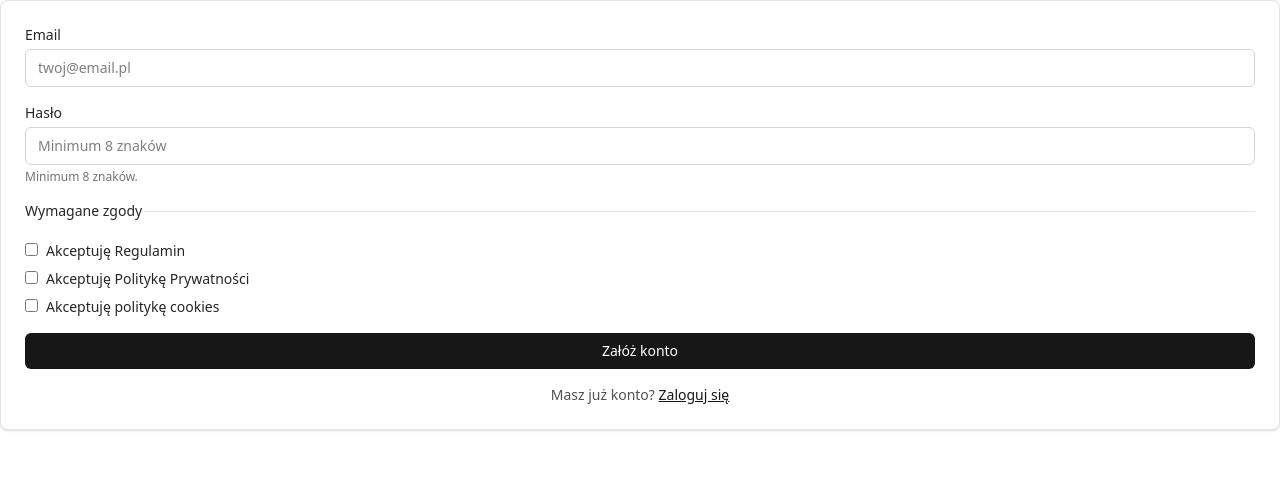
Test: SignUpForm › blokuje submit i pokazuje błąd dla niepoprawnego formatu email
Type "not-an-email" into the field labelled "Email" at (640, 68), box [25,49,1255,87]
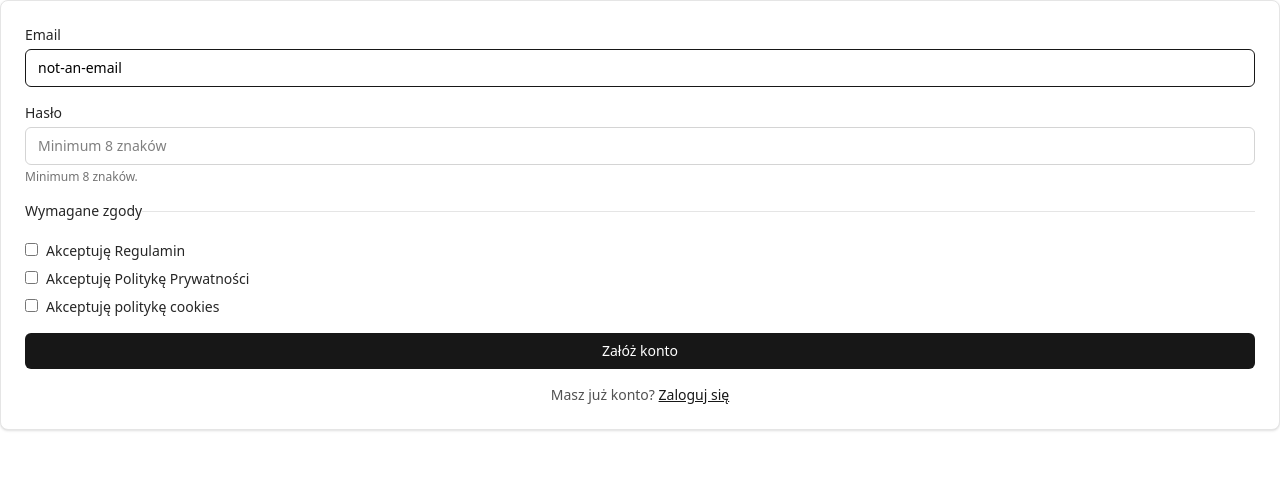
Type "StrongPass123" into the password field labelled "Hasło" at (640, 146), box [25,127,1255,165]
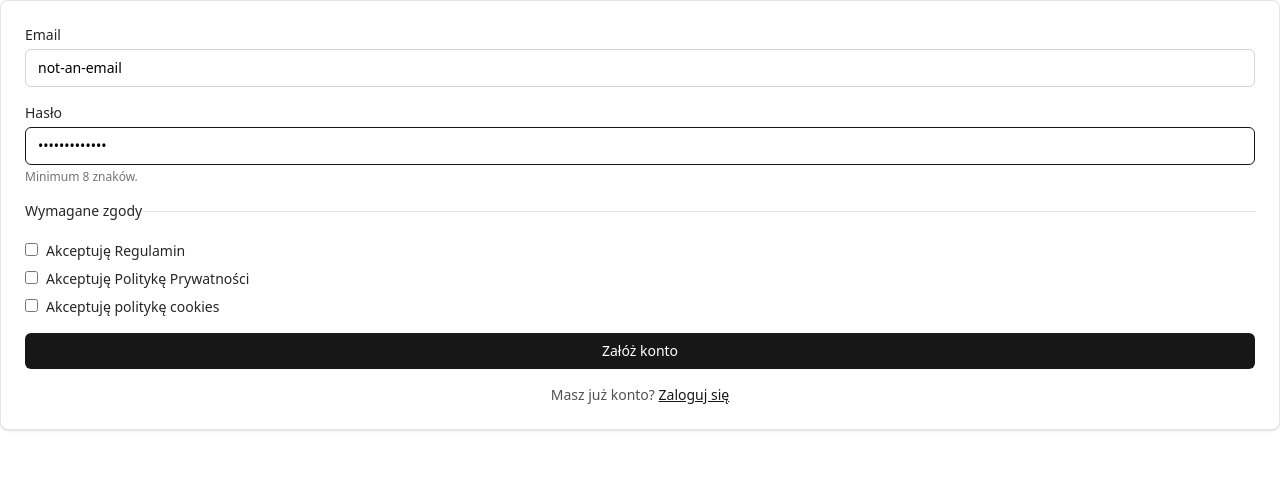
Click the checkbox labelled "Akceptuję Regulamin" at (32, 250), box [25,243,38,256]
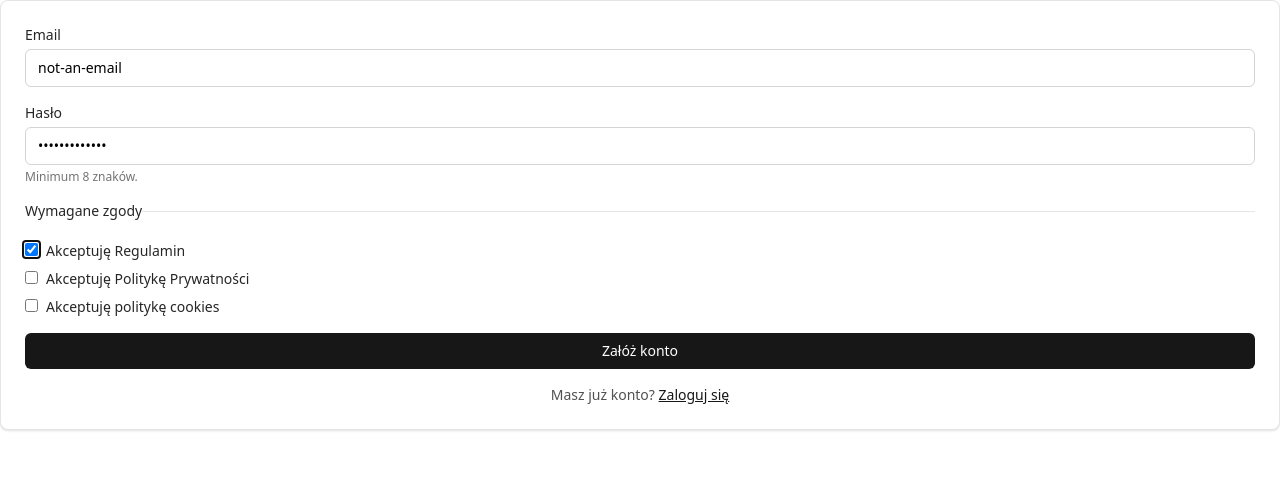
Click the checkbox labelled "Akceptuję Politykę Prywatności" at (32, 278), box [25,271,38,284]
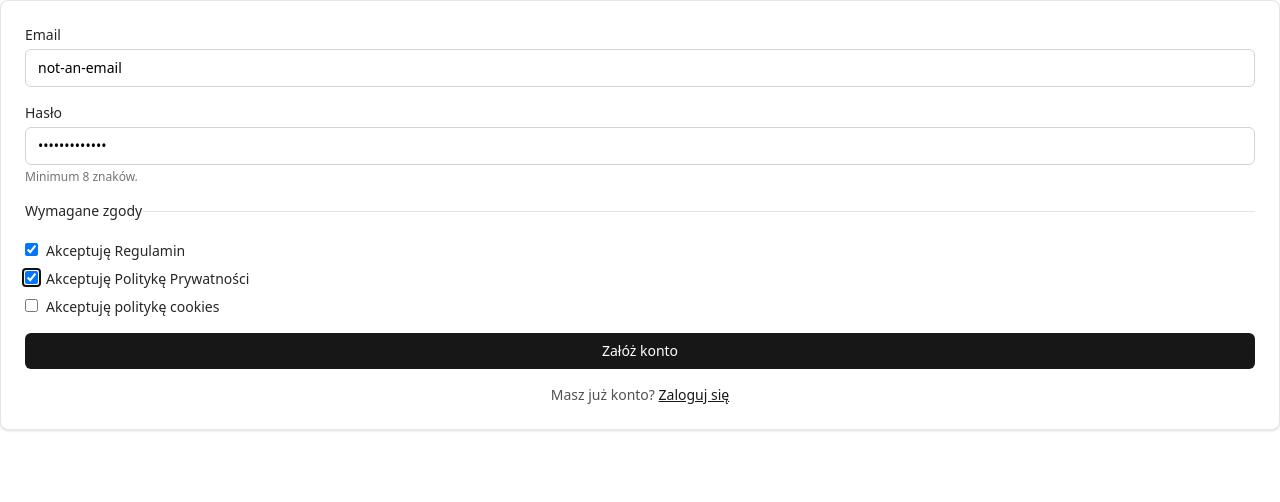
Click the checkbox labelled "Akceptuję politykę cookies" at (32, 306), box [25,299,38,312]
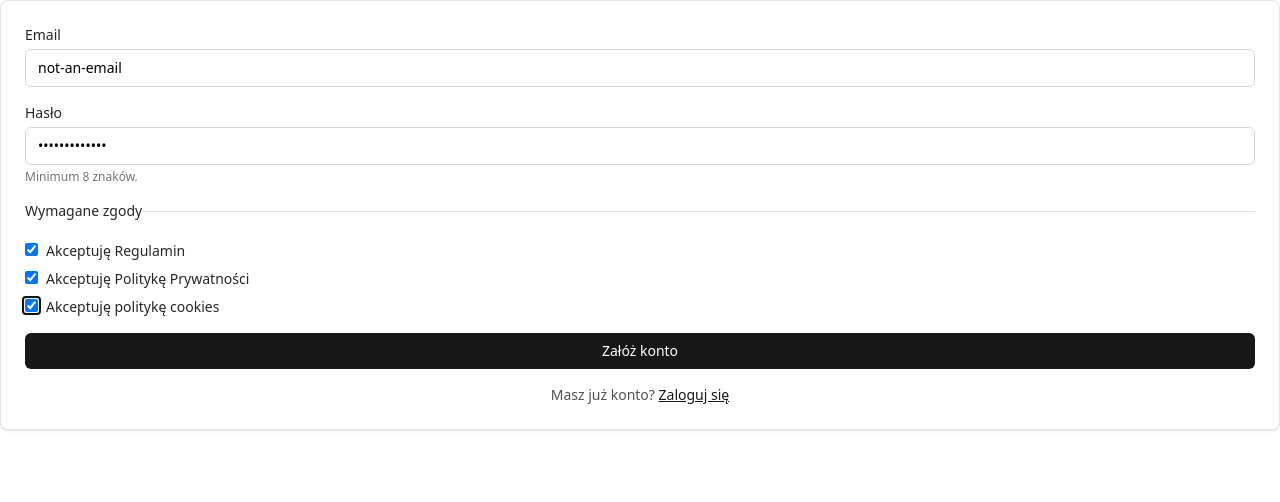
Click the button "Załóż konto" at (640, 351), box [25,333,1255,369]
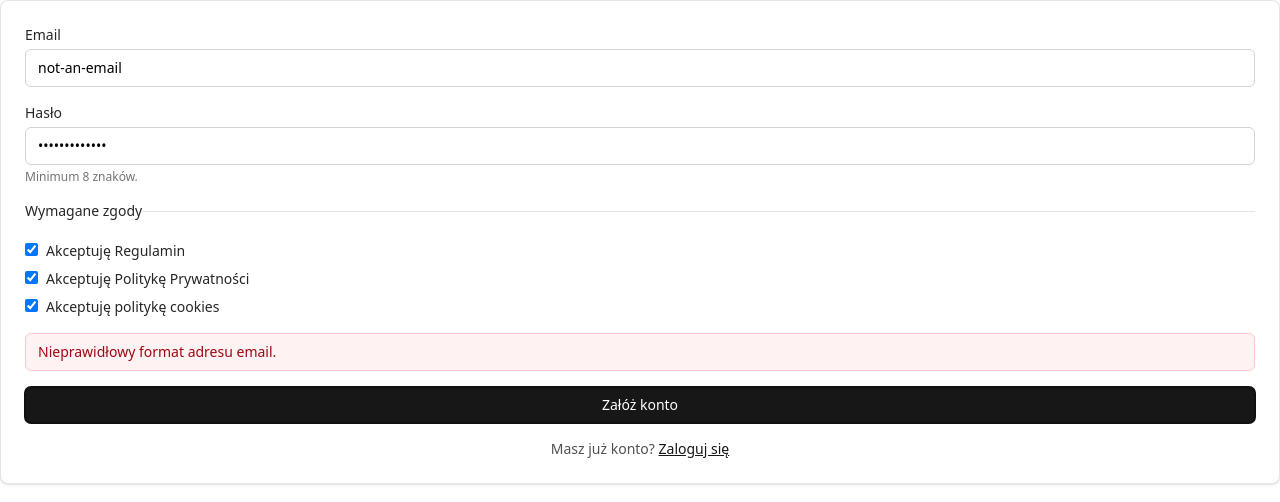
Result: the message reads "Nieprawidłowy format adresu email." at [38,342,276,361]
